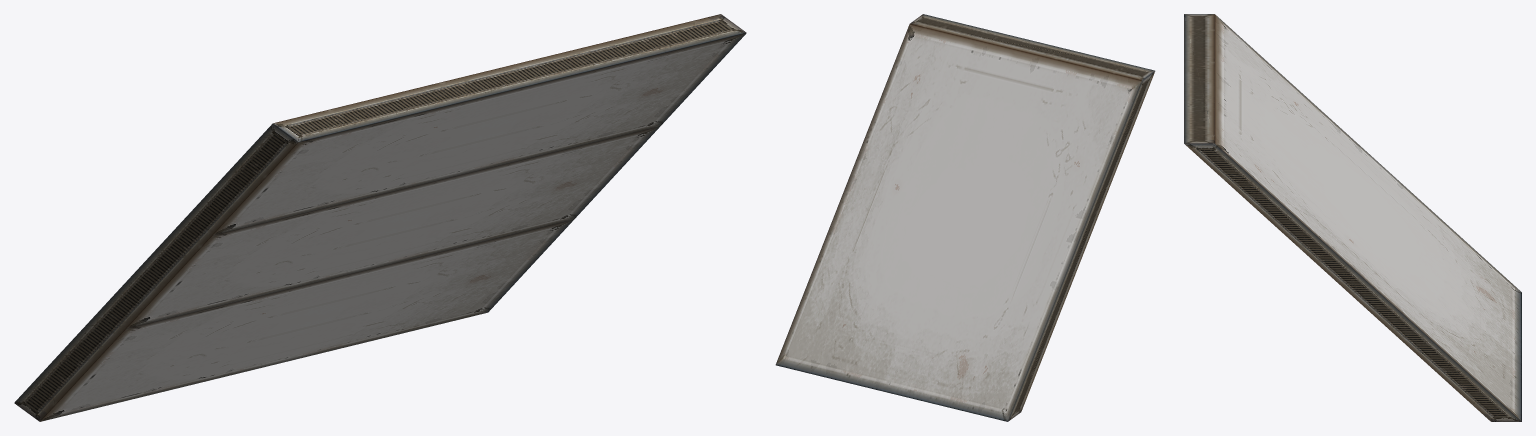
Rendered from scifi_wall_top1_4.FBX.
The picture shows the model from 3 angles, left to right: view 1: azimuth 30°, elevation 25°; view 2: azimuth 150°, elevation 25°; view 3: azimuth 270°, elevation 25°; orthographic projection. The views are drawn at different scales.
Parts seen in each view (by area): view 1: Plane335; view 2: Plane335; view 3: Plane335.
Part boxes in pixels (box(x1,y1,x2,y2)): Plane335: box(14, 14, 746, 421); Plane335: box(775, 14, 1155, 421); Plane335: box(1184, 14, 1521, 421).
Size of the model in its own units: 254 by 254 by 279.
